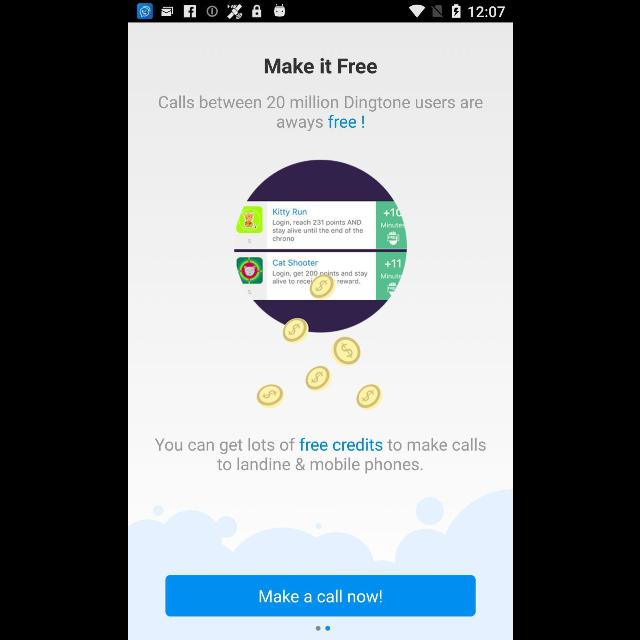image: (234, 160, 406, 410)
pageindicator: (314, 626, 330, 630)
text: (154, 438, 486, 474), (158, 96, 482, 132), (264, 58, 376, 74)
textbutton: (165, 576, 475, 616)
uppertaskbar: (128, 1, 512, 23)
